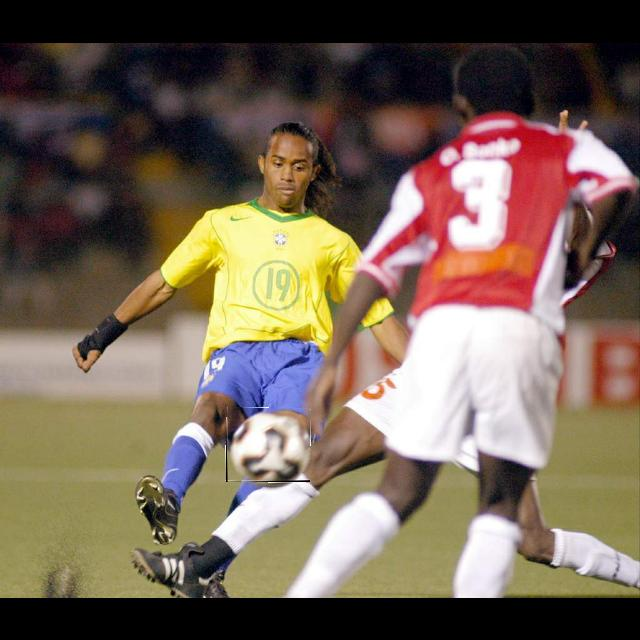Football: (226, 408, 310, 482)
